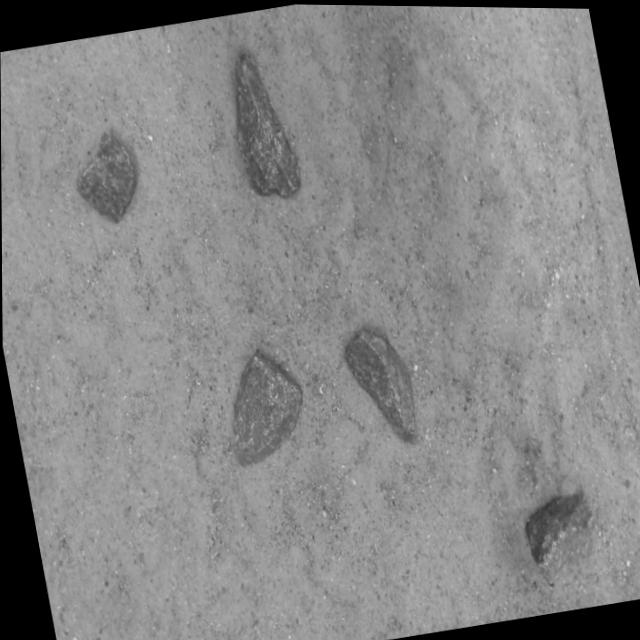rock: (236, 52, 299, 195), (234, 351, 301, 464), (346, 330, 414, 440), (525, 493, 593, 584), (77, 133, 134, 220)
